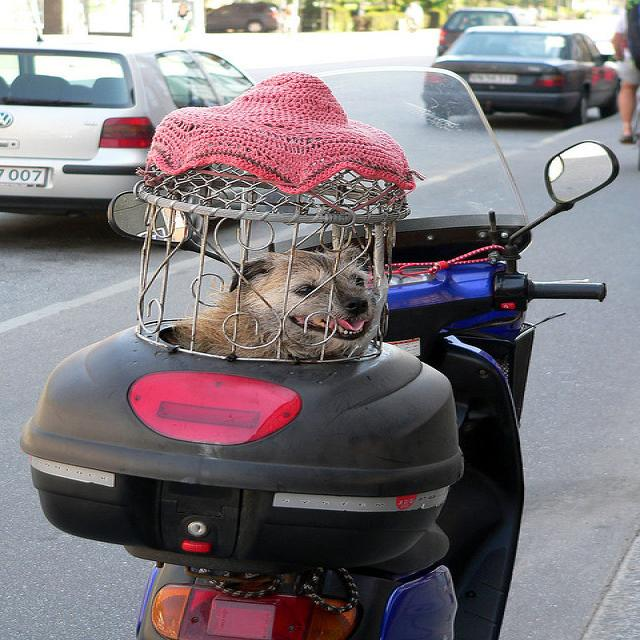motor: (25, 66, 628, 627)
